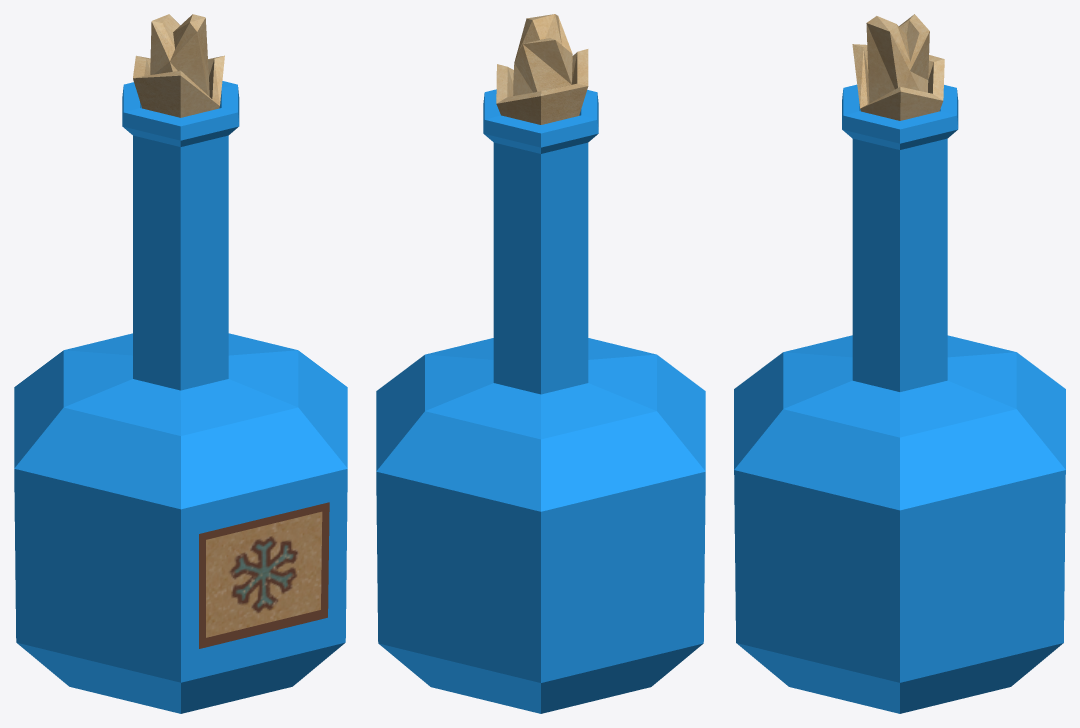
File: Coolness potion.fbx
3 views of the same model, side by side, from view 1: azimuth 30°, elevation 25°; view 2: azimuth 150°, elevation 25°; view 3: azimuth 270°, elevation 25° (orthographic).
Visible parts, largest first — view 1: Coolness potion; view 2: Coolness potion; view 3: Coolness potion.
Part boxes in pixels (bbox=[...]): Coolness potion: bbox=[14, 14, 347, 713]; Coolness potion: bbox=[376, 14, 705, 713]; Coolness potion: bbox=[734, 14, 1065, 713].
Bounding box in the file's own units: 179 × 331 × 155.
Materials: 2 (1 with a texture image).
